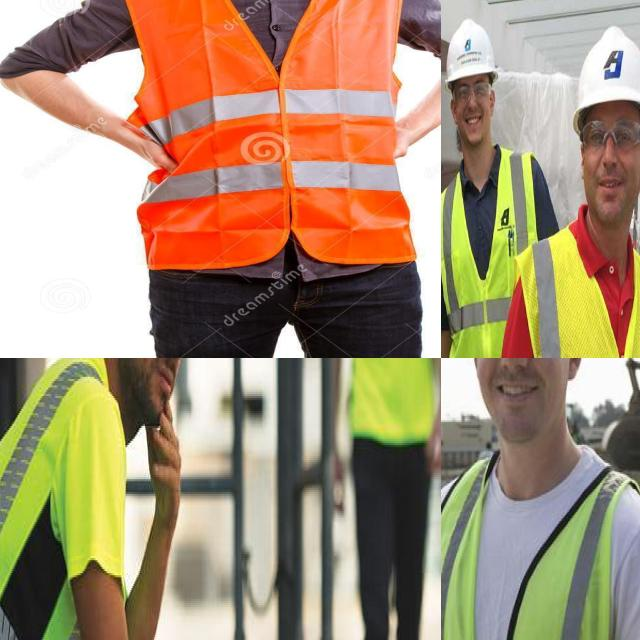No_Ear-Protection: (563, 358, 587, 387), (448, 96, 459, 129), (578, 142, 586, 185), (488, 87, 497, 119)
face_nomask: (473, 358, 577, 452), (580, 105, 640, 227), (122, 358, 191, 421), (454, 74, 501, 150)
glasses: (578, 113, 640, 153), (451, 77, 494, 108)
hand_noglove: (147, 394, 183, 522), (122, 102, 180, 178), (374, 110, 432, 170)
head_helmet: (572, 0, 640, 128), (441, 0, 504, 91)
person: (78, 0, 441, 358), (0, 358, 212, 640), (441, 358, 640, 640), (441, 0, 558, 358), (537, 1, 640, 358), (317, 358, 441, 640)
vest: (112, 0, 433, 254), (441, 435, 624, 640), (0, 358, 123, 640), (441, 160, 544, 358), (502, 237, 640, 358), (328, 358, 441, 502)
